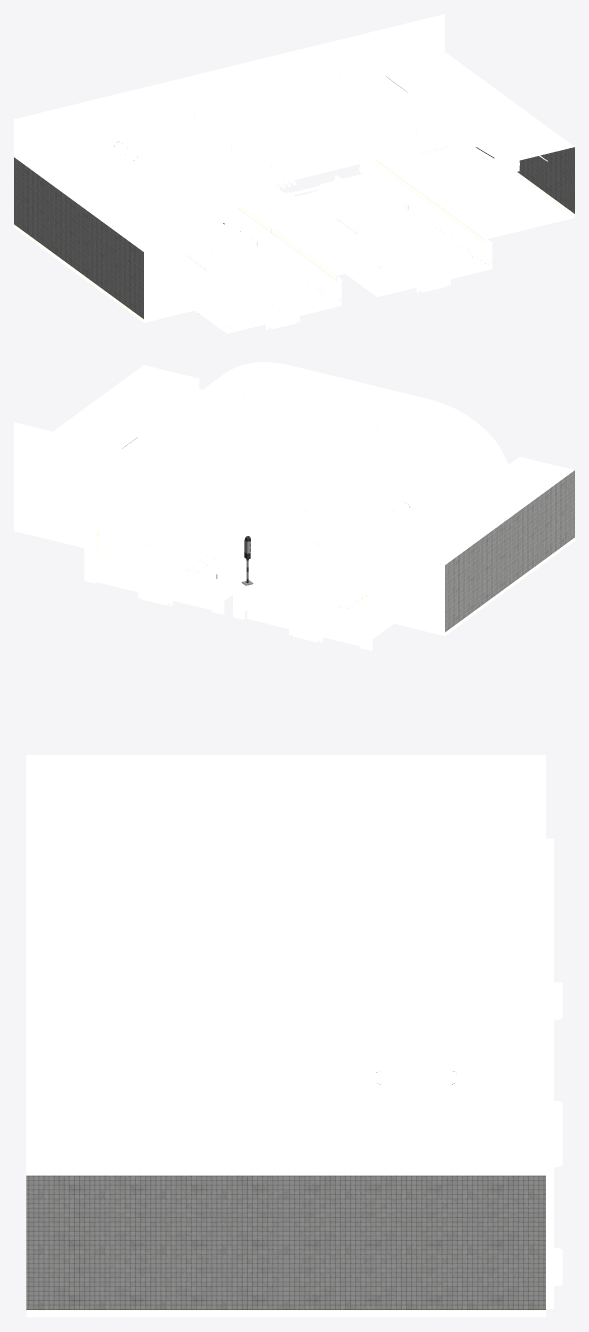
The model's file is Ped_Tunnel_End_03.fbx.
3 renders of one model, top to bottom at view 1: azimuth 30°, elevation 25°; view 2: azimuth 150°, elevation 25°; view 3: azimuth 270°, elevation 25°, orthographic. The views are drawn at different scales.
Visible parts, largest first — view 1: Ped_Tunnel_End_03; view 2: Ped_Tunnel_End_03; view 3: Ped_Tunnel_End_03.
Part boxes in pixels (x1=…): Ped_Tunnel_End_03: x1=14, y1=14, x2=574, y2=333; Ped_Tunnel_End_03: x1=14, y1=362, x2=574, y2=650; Ped_Tunnel_End_03: x1=26, y1=755, x2=562, y2=1317.
Size of the model in its own units: 1916 by 627 by 1032.
